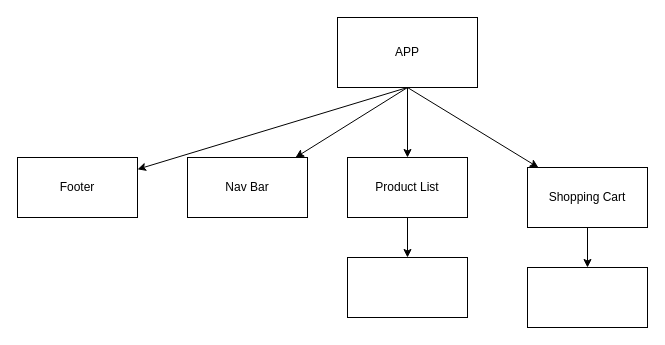
The diagram is 665 pixels wide and 345 high, and some of its shapes have lost their labels. Each missing label, with the centre of its shape:
Product Item: point (407, 287)
Shopping Cart Item: point (587, 297)
